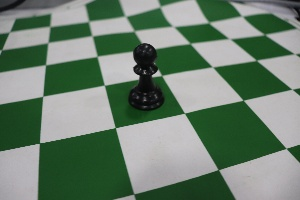black_pawn: (123, 33, 173, 116)
